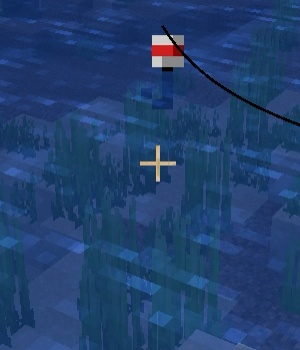up: (146, 28, 189, 108)
